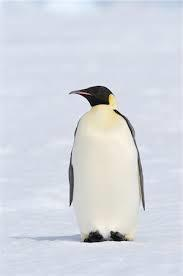emporer: (58, 81, 151, 248)
